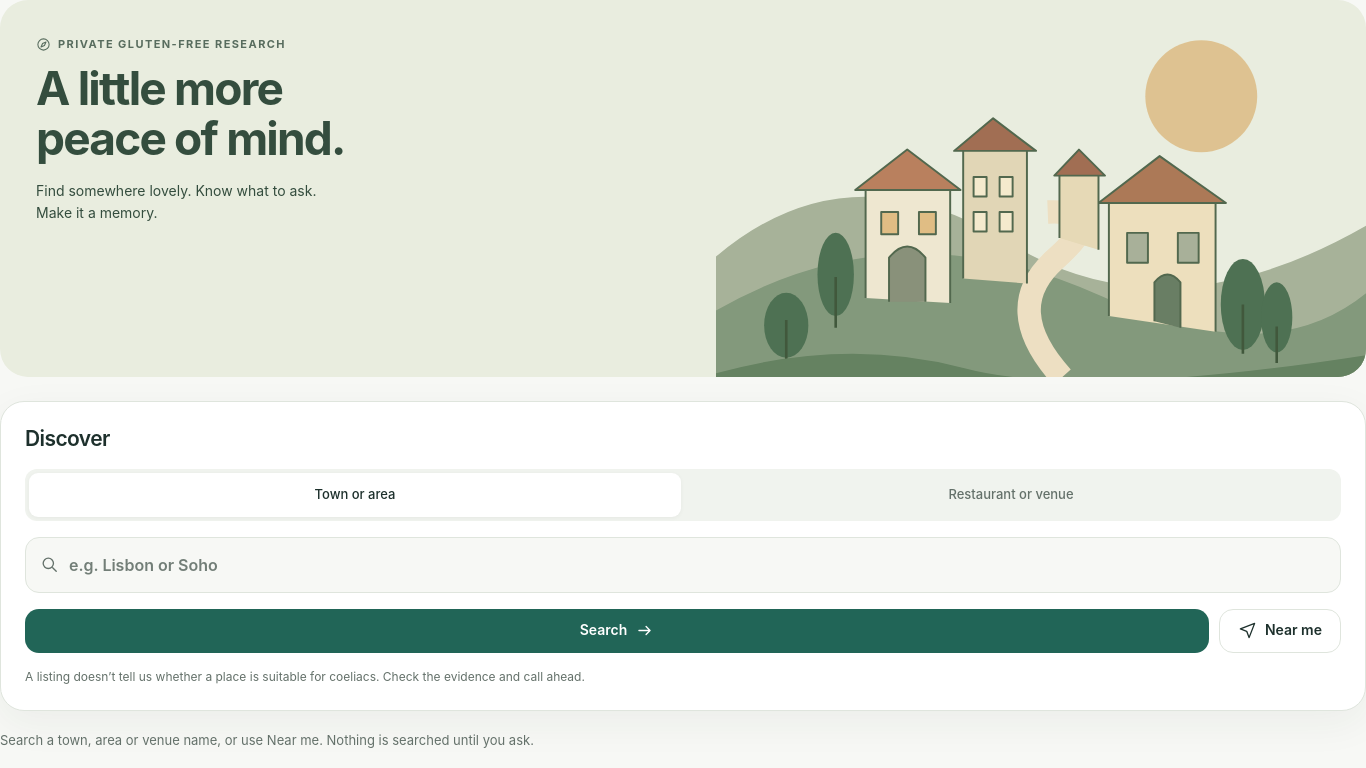
Test: DiscoverPage › renders the functions/resource-exhausted ({"reason":"dailyCap"}) error as dailyCap with its message
This screenshot has width=1366, height=768.
In the field with test id "discover-query": (698, 564) [69,538,1326,592], type "x"
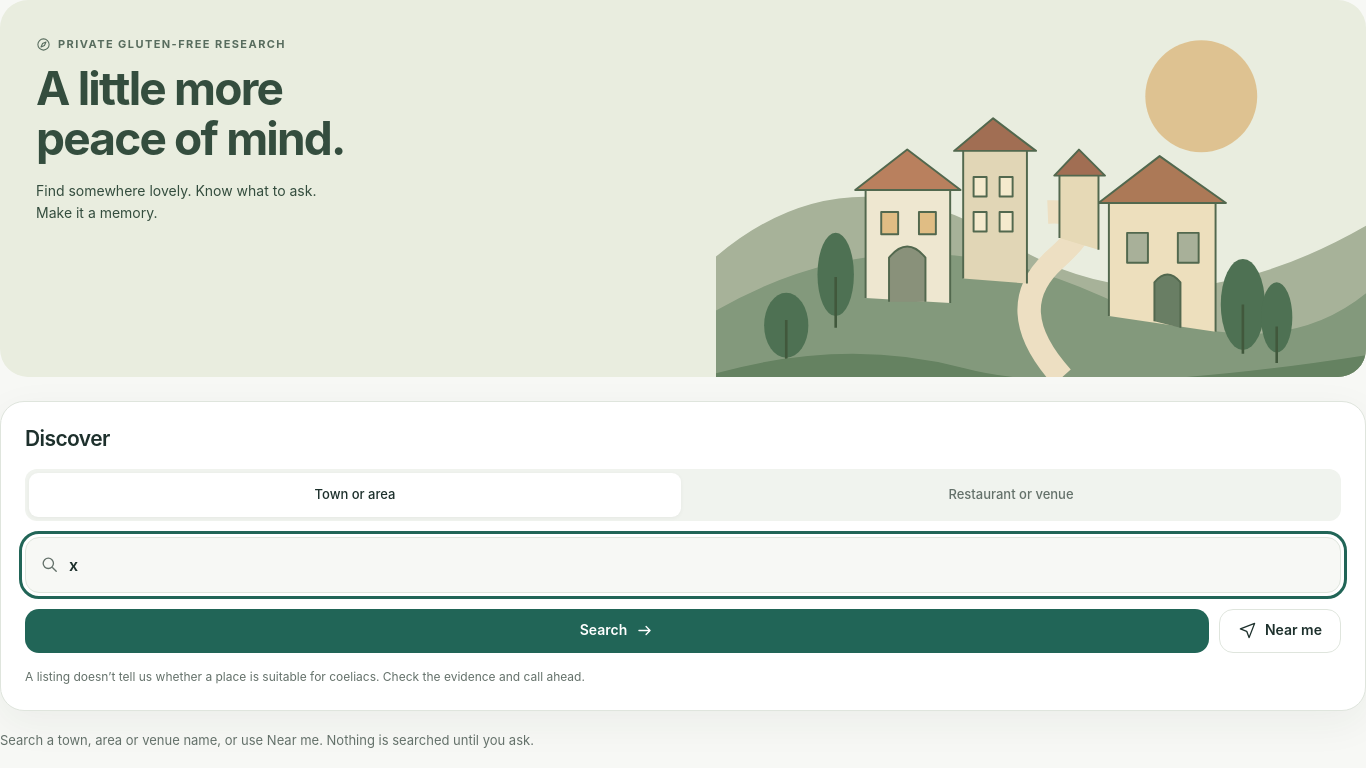
Click the button with test id "discover-submit": (617, 630) [25,608,1209,652]
(page scrolled)
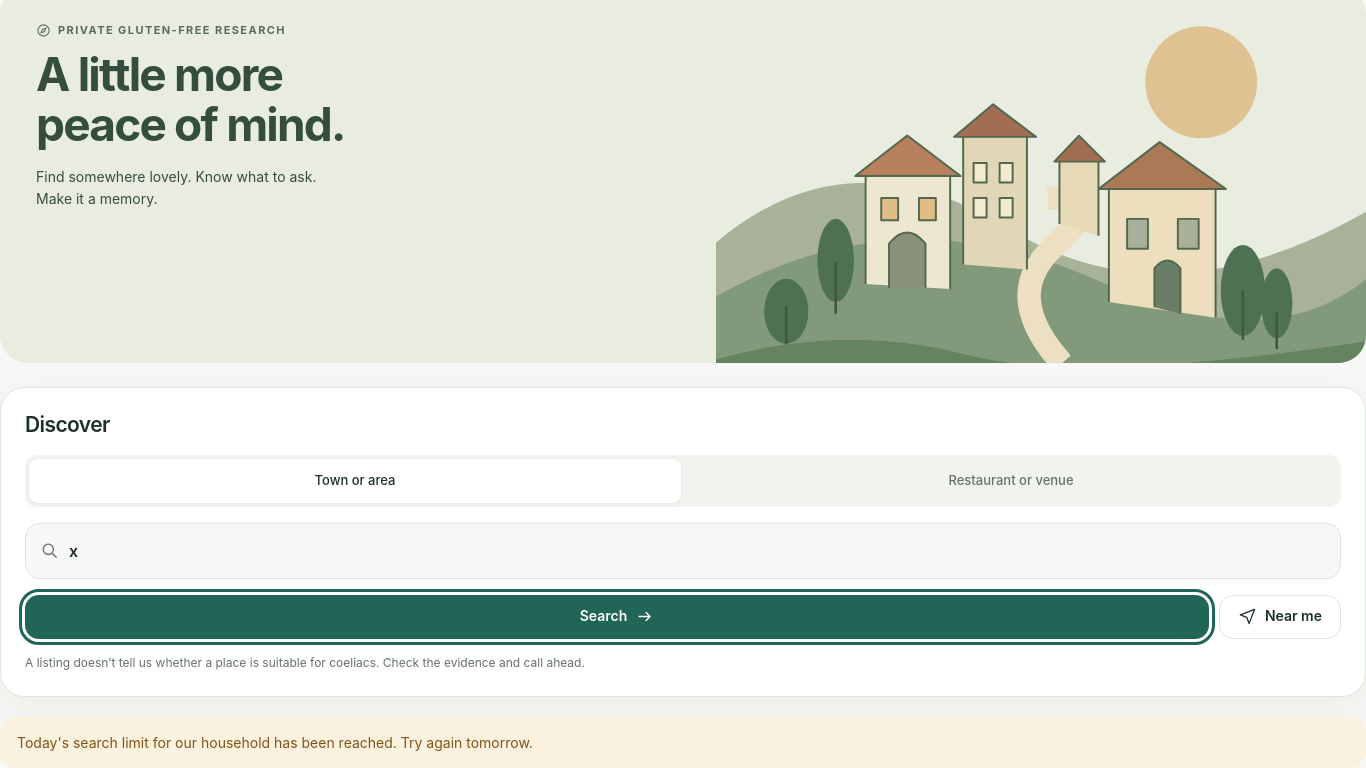
Expected: the message with test id "discover-state" reads "Today's search limit for our household has been reached. Try again tomorrow.", [17,734,533,751]
